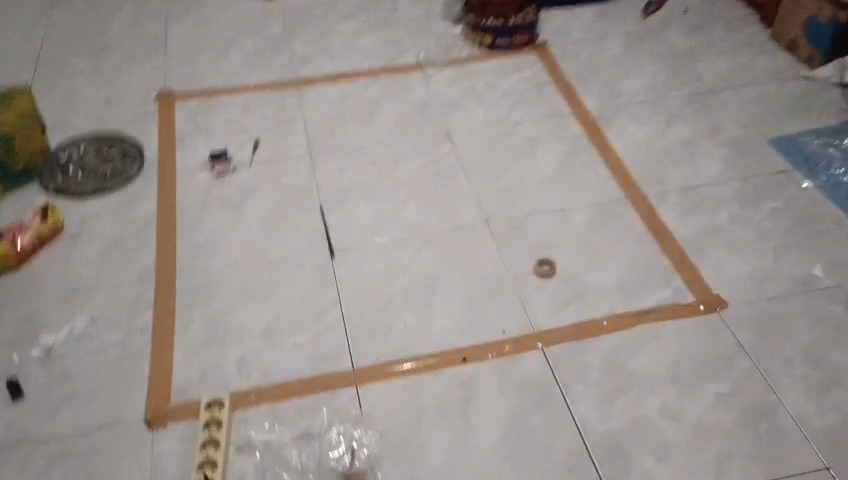floor marking: (230, 45, 727, 409), (143, 67, 422, 429)
